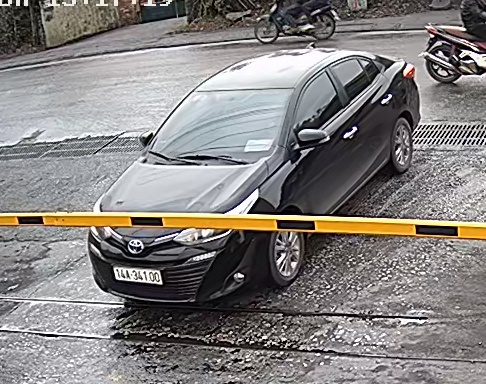vehicle plate: (112, 263, 164, 288)
